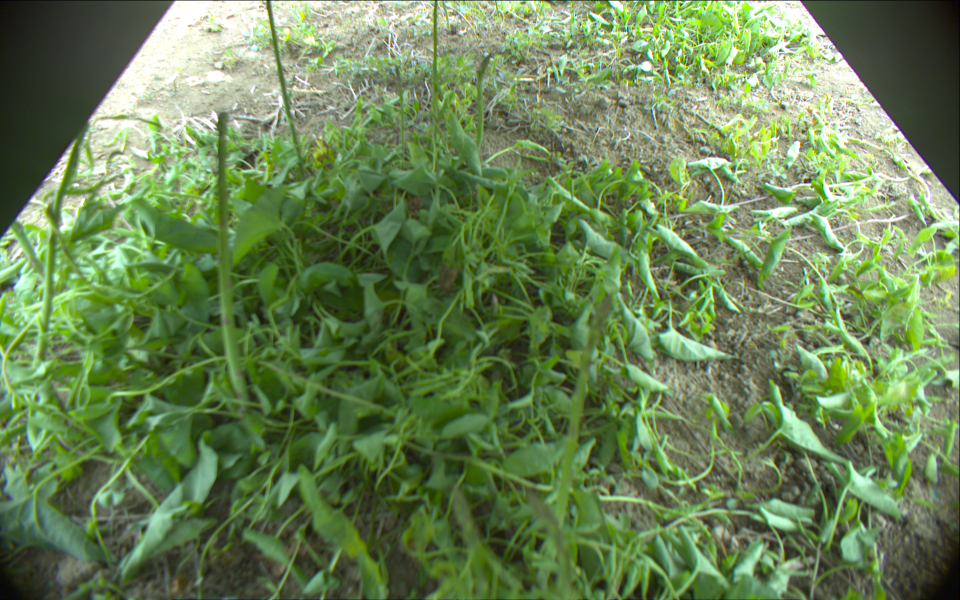aspa: (31, 109, 165, 369), (552, 295, 615, 518), (217, 111, 247, 407), (264, 1, 307, 184), (431, 1, 450, 158), (474, 52, 493, 155), (8, 213, 42, 270), (392, 67, 405, 160)
